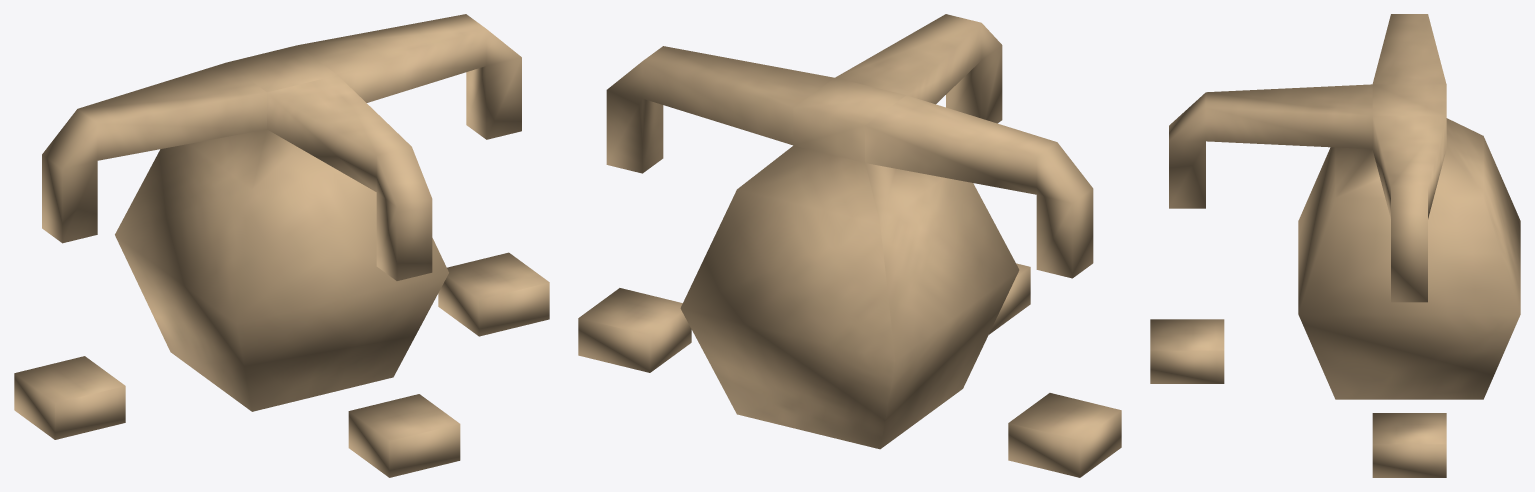
Rendered from breewing-still.glb.
3 views of the same model, side by side, from view 1: azimuth 30°, elevation 25°; view 2: azimuth 150°, elevation 25°; view 3: azimuth 270°, elevation 25° (orthographic). The views are drawn at different scales.
Parts seen in each view (by area): view 1: BrewingStill; view 2: BrewingStill; view 3: BrewingStill.
Part boxes in pixels (box(x1,y1,x2,y2)): BrewingStill: box(14, 14, 549, 477); BrewingStill: box(578, 14, 1121, 477); BrewingStill: box(1150, 14, 1520, 477).
Size of the model in its own units: 1.4 by 0.8 by 1.
1 material, 1 textured.
